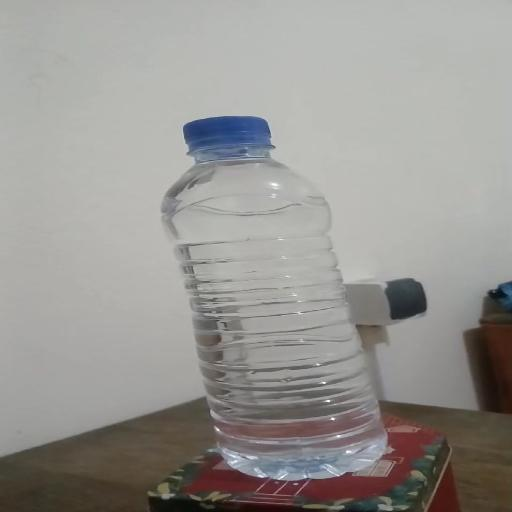bouteille non conformite: (161, 102, 405, 478), (94, 214, 456, 373)
